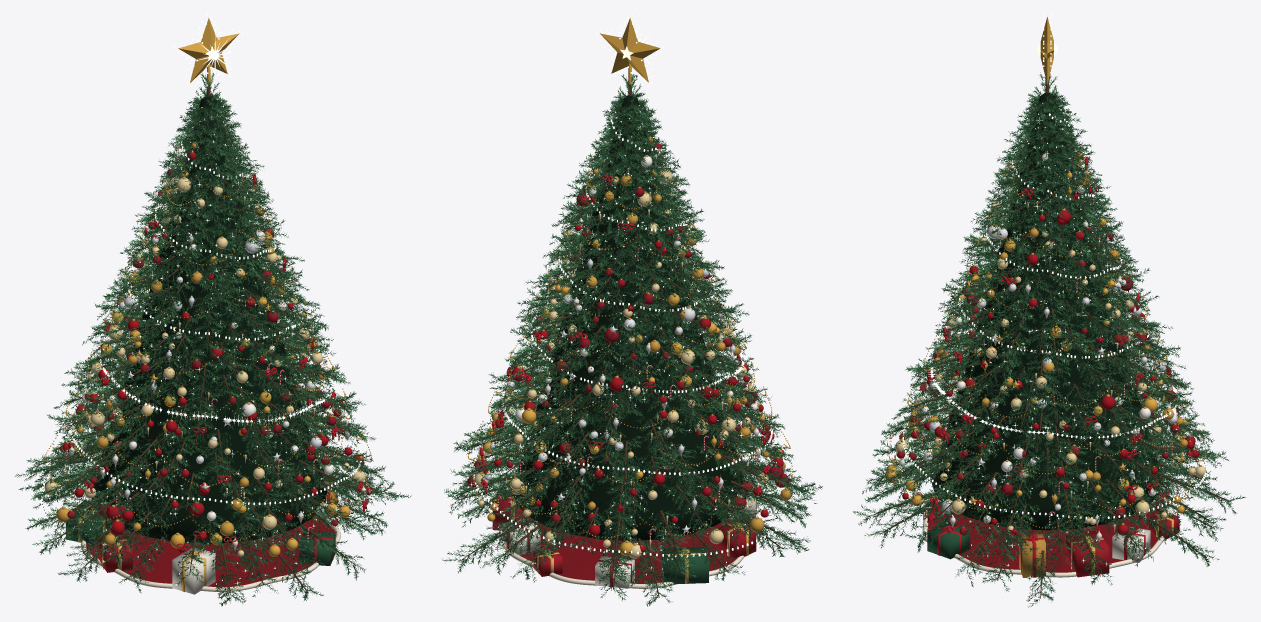
Rendered from grand-christmas-tree-v002.glb.
3 views of the same model, side by side, from view 1: azimuth 30°, elevation 25°; view 2: azimuth 150°, elevation 25°; view 3: azimuth 270°, elevation 25° (orthographic). The views are drawn at different scales.
Visible parts, largest first — view 1: needles, needle_fill, branches, tree_skirt, ornament_champagne, ornament_red_gloss, ornament_gold, ornament_beads, spiral_bulbs, ornament_gold_satin, ornament_red_matte, ornament_silver (+10 smaller); view 2: needles, needle_fill, branches, ornament_champagne, ornament_red_gloss, tree_skirt, ornament_beads, ornament_gold, ornament_silver, ornament_gold_satin, spiral_bulbs, gift_gift_red (+11 smaller); view 3: needles, needle_fill, branches, tree_skirt, ornament_champagne, ornament_red_gloss, ornament_gold, ornament_silver, ornament_beads, gift_gift_red, spiral_bulbs, ornament_ribbon_red (+11 smaller).
Boxes of the visible parts, box(x1,y1,x2,y2) form: needles: box(14, 73, 411, 606); needle_fill: box(91, 96, 327, 543); branches: box(33, 86, 389, 599); tree_skirt: box(86, 519, 335, 587); ornament_champagne: box(45, 178, 365, 556); ornament_red_gloss: box(59, 152, 372, 540); ornament_gold: box(74, 147, 362, 556); ornament_beads: box(43, 153, 371, 541); spiral_bulbs: box(41, 106, 361, 534); ornament_gold_satin: box(56, 142, 325, 545); ornament_red_matte: box(98, 168, 359, 552); ornament_silver: box(52, 231, 350, 523); needles: box(442, 74, 822, 606); needle_fill: box(513, 95, 746, 540); branches: box(456, 84, 803, 597); ornament_champagne: box(474, 158, 768, 558); ornament_red_gloss: box(467, 143, 788, 552); tree_skirt: box(520, 519, 747, 583); ornament_beads: box(467, 155, 793, 538); ornament_gold: box(478, 166, 782, 555); ornament_silver: box(484, 188, 772, 533); ornament_gold_satin: box(487, 137, 792, 532); spiral_bulbs: box(473, 107, 776, 557); gift_gift_red: box(492, 489, 756, 576); needles: box(853, 72, 1245, 607); needle_fill: box(931, 92, 1162, 530); branches: box(866, 82, 1231, 598); tree_skirt: box(928, 502, 1161, 572); ornament_champagne: box(895, 159, 1206, 532); ornament_red_gloss: box(902, 186, 1195, 535); ornament_gold: box(886, 171, 1185, 513); ornament_silver: box(899, 186, 1192, 513); ornament_beads: box(888, 149, 1206, 528); gift_gift_red: box(1066, 511, 1179, 577); spiral_bulbs: box(902, 113, 1206, 519); ornament_ribbon_red: box(899, 156, 1171, 524).
Size of the model in its own units: 5.39 by 7.71 by 5.41.
